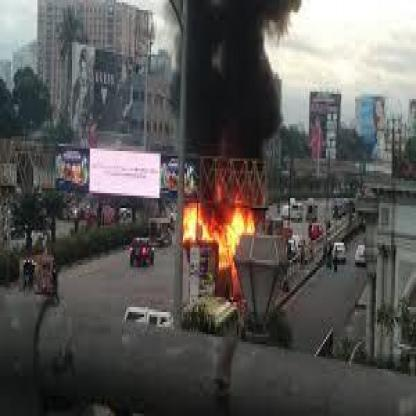fire: (162, 177, 302, 290)
smoke: (150, 0, 302, 198)
